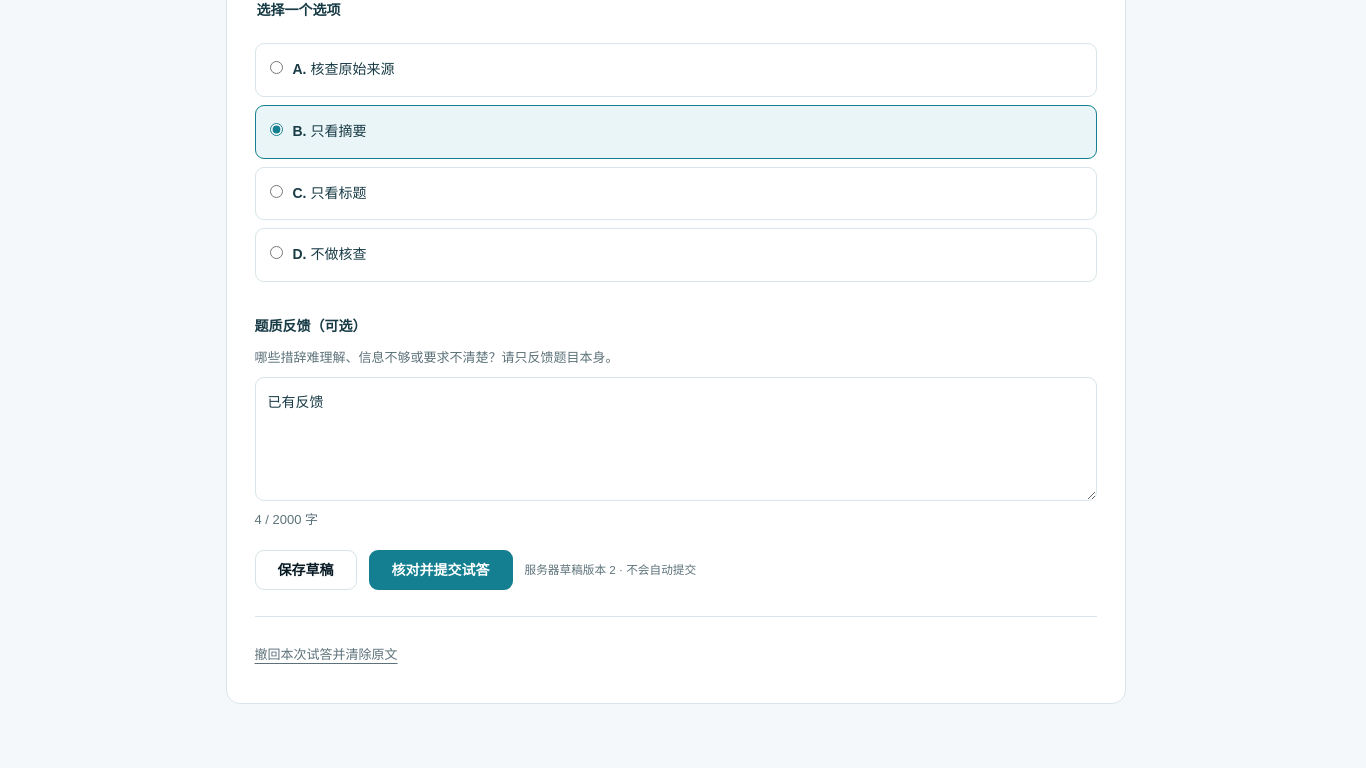
Test case: learner content-quality trial › treats an expired withdrawal receipt as a closed result rather than a false failure
The width and height of the screenshot is (1366, 768).
(page scrolled)
Step 1. Click the button with test id "trial-prepare-withdraw" → click(326, 655), box [254,635,398,675]
(page scrolled)
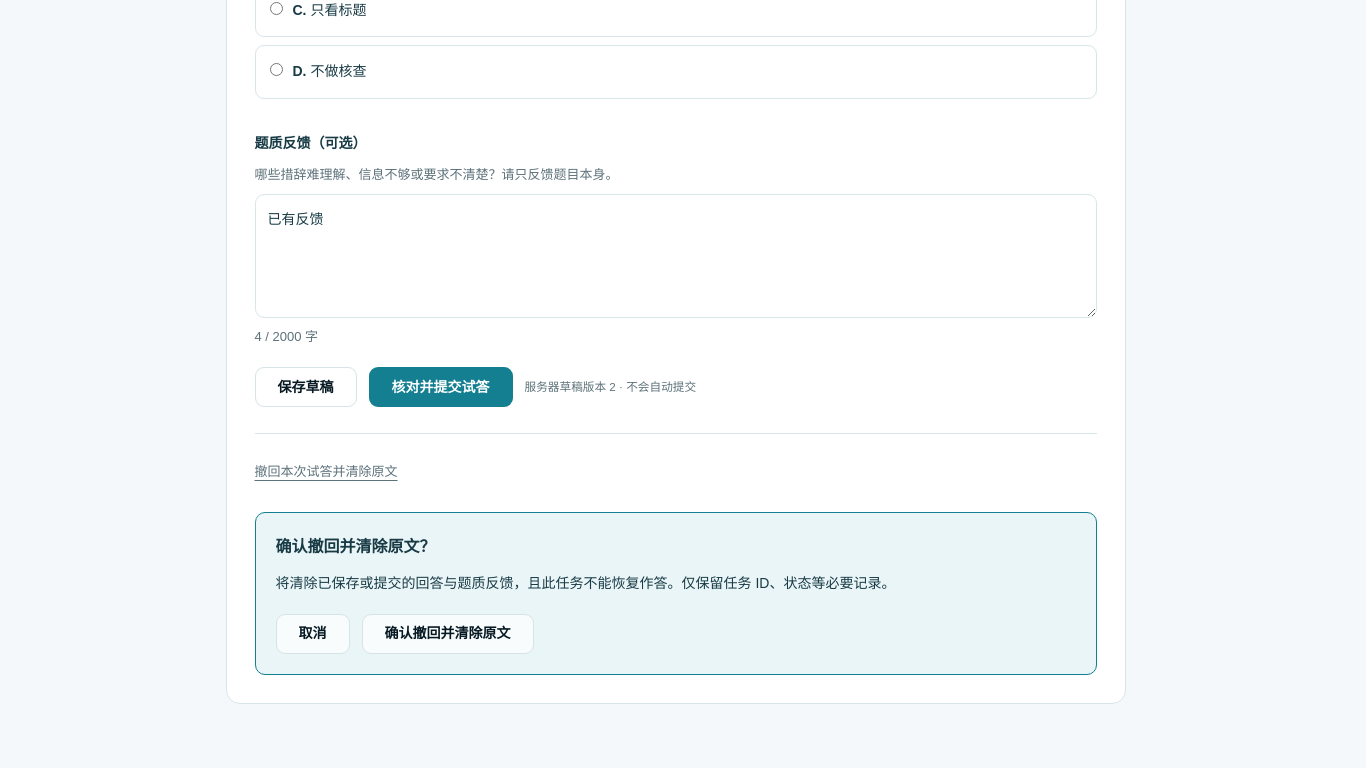
Step 2. Click the button with test id "trial-confirm-withdraw" → click(448, 634), box [362,614,534,654]
(page scrolled)
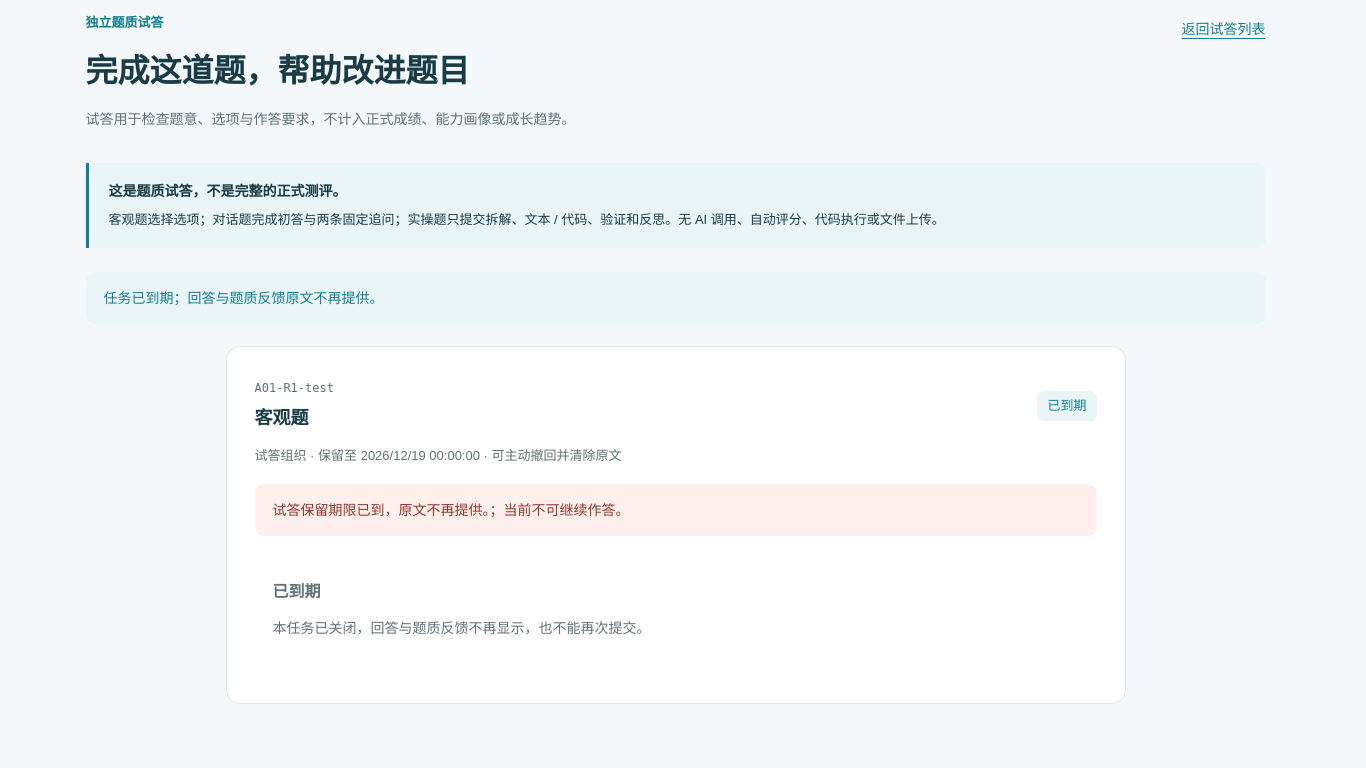
Expected: the text "已有反馈" is not shown
Now the text "任务已到期" is shown, box [104,290,384,306]
